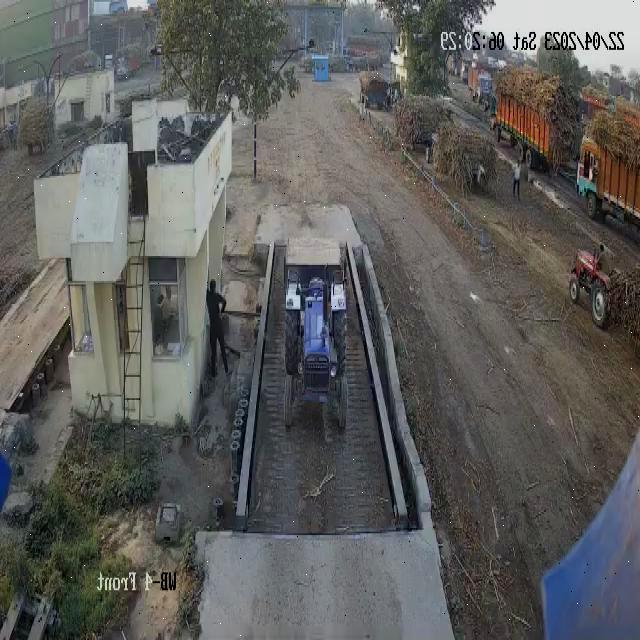Tratores - v5 YOLO V8L 2024-11-13: (280, 273, 348, 442), (562, 234, 620, 330)
